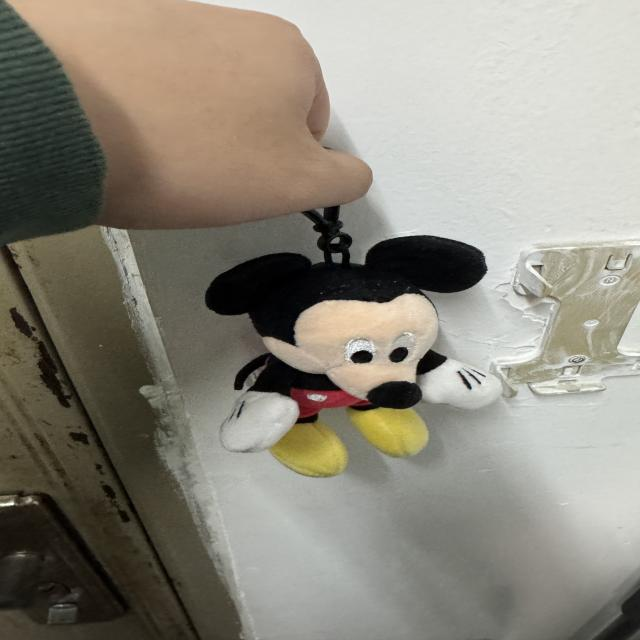mickey: (206, 236, 501, 476)
